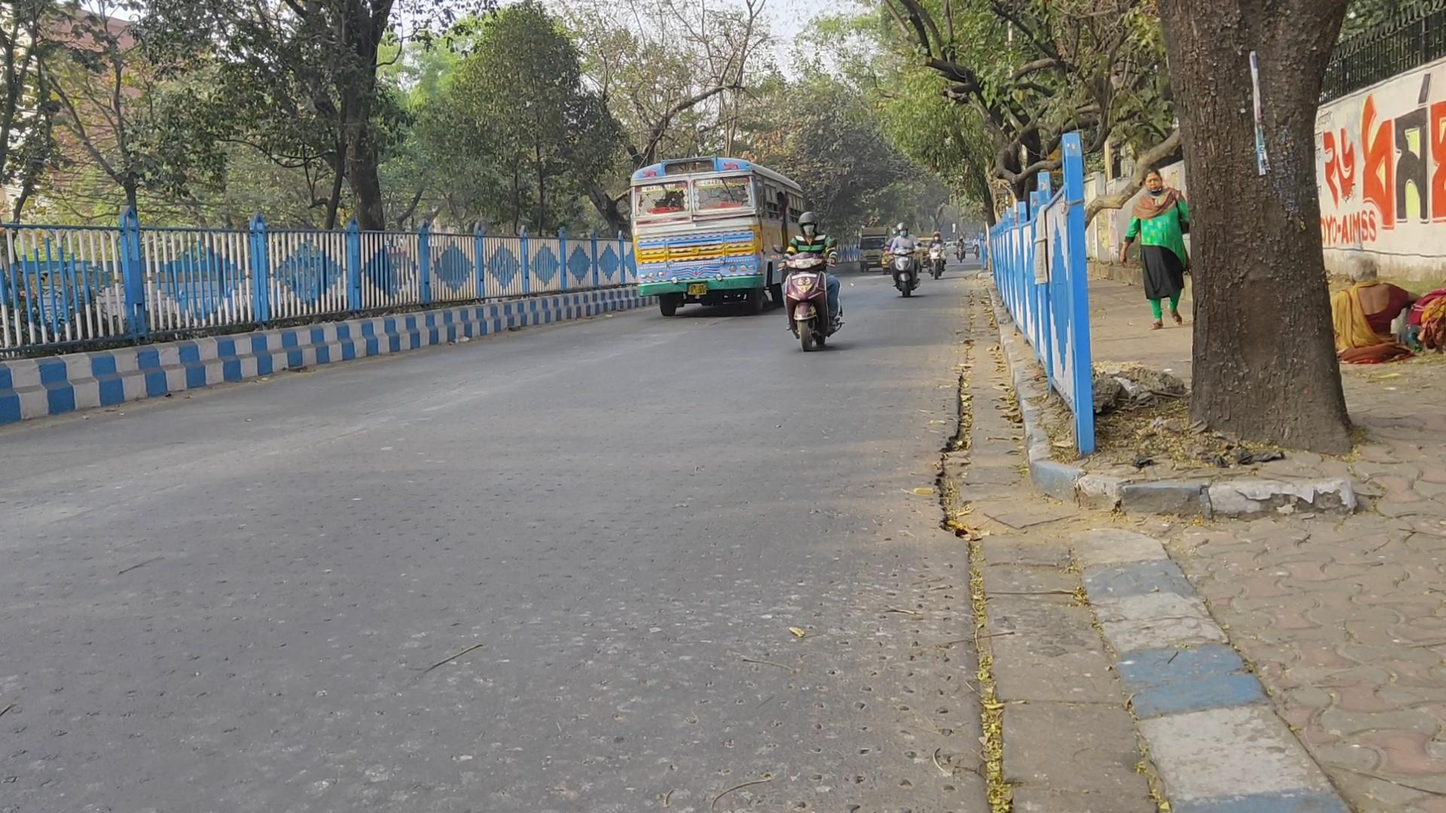Bus: (631, 157, 806, 318)
bike: (776, 211, 844, 351), (891, 220, 921, 300), (927, 231, 948, 281), (954, 236, 967, 263)
van: (857, 226, 892, 273)
